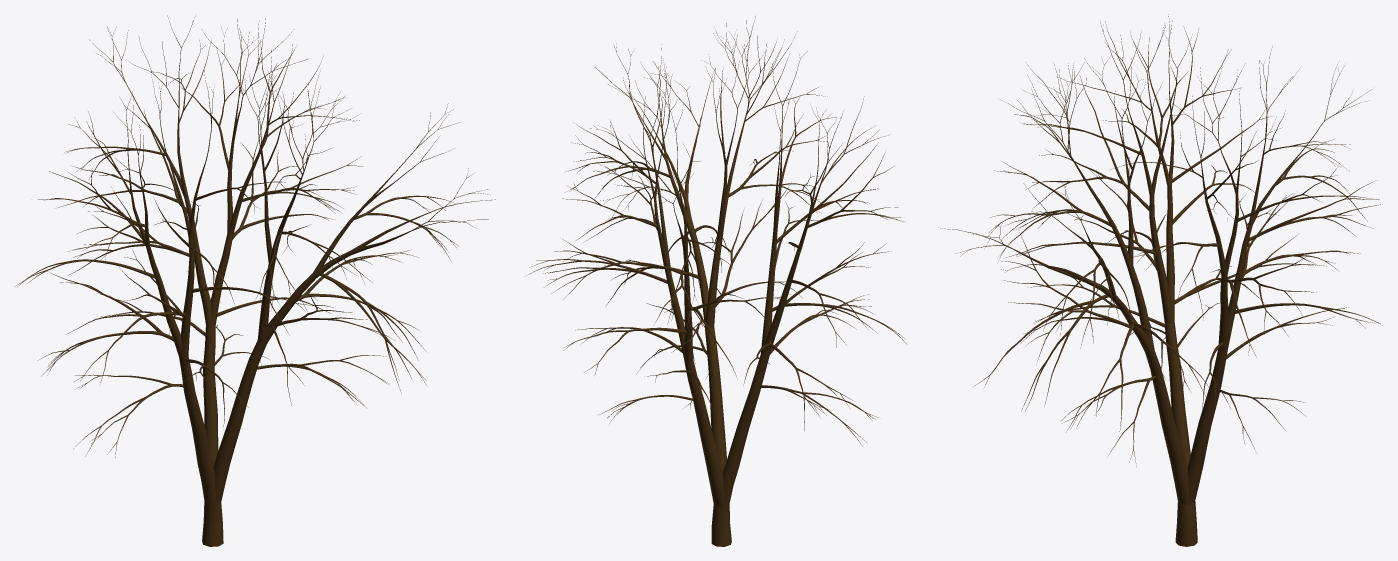
The model's file is DesertTree2.fbx.
The picture shows the model from 3 angles, left to right: view 1: azimuth 30°, elevation 25°; view 2: azimuth 150°, elevation 25°; view 3: azimuth 270°, elevation 25°; orthographic projection. The views are drawn at different scales.
Visible parts, largest first — view 1: DesertTree2; view 2: DesertTree2; view 3: DesertTree2.
Boxes of the visible parts, x1,y1,x2,y2 form: DesertTree2: (15, 15, 495, 546); DesertTree2: (526, 16, 906, 546); DesertTree2: (938, 14, 1382, 546).
Bounding box in the file's own units: 1271 × 1616 × 1295.
